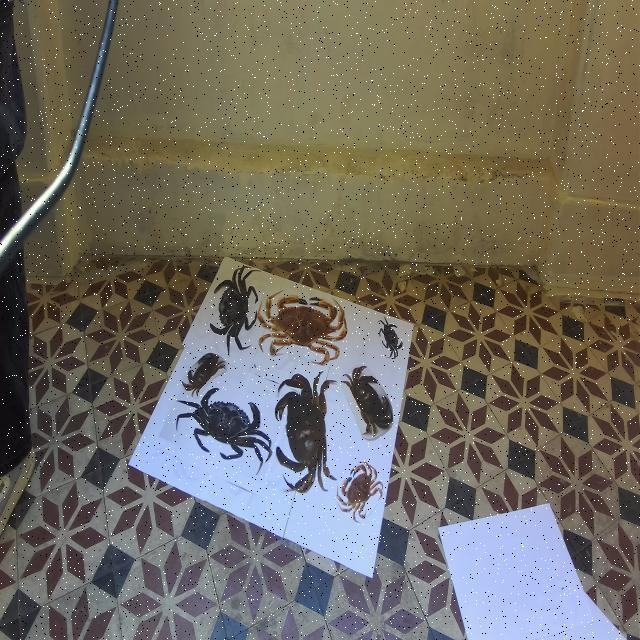European_Green_Crab: (171, 369, 279, 481), (207, 257, 262, 364), (376, 308, 405, 366)
